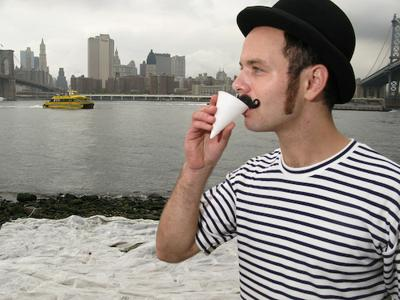person: (154, 2, 400, 300)
